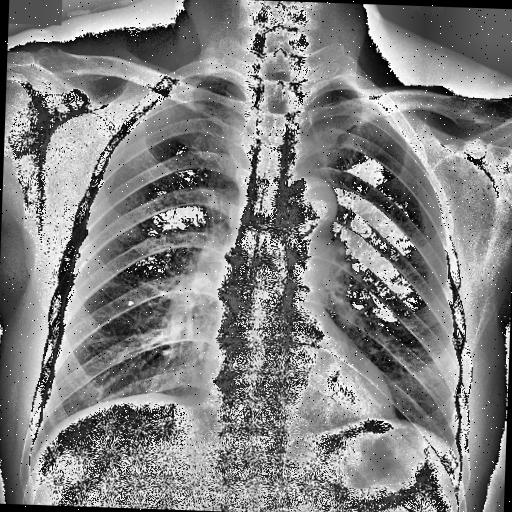0- Aortic enlargement: (276, 172, 340, 240), (278, 174, 338, 240), (288, 174, 338, 232)
9- Other lesion: (128, 298, 134, 306)
